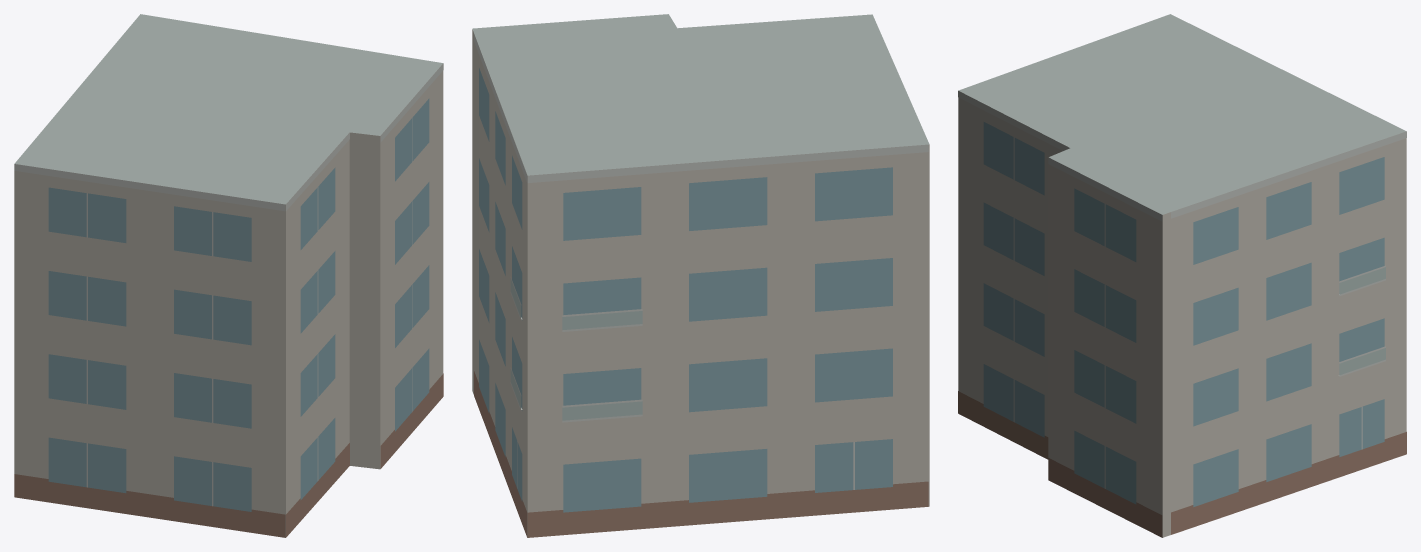
File: survey-upis-32682289.glb
The picture shows the model from 3 angles, left to right: view 1: azimuth 30°, elevation 25°; view 2: azimuth 150°, elevation 25°; view 3: azimuth 270°, elevation 25°; orthographic projection. The views are drawn at different scales.
Parts seen in each view (by area): view 1: survey-upis-32682289.tmp; view 2: survey-upis-32682289.tmp; view 3: survey-upis-32682289.tmp.
Boxes of the visible parts, x1,y1,x2,y2 form: survey-upis-32682289.tmp: [14, 14, 443, 537]; survey-upis-32682289.tmp: [472, 14, 929, 537]; survey-upis-32682289.tmp: [958, 14, 1406, 537].
Size of the model in its own units: 15.62 by 11.7 by 14.74.
